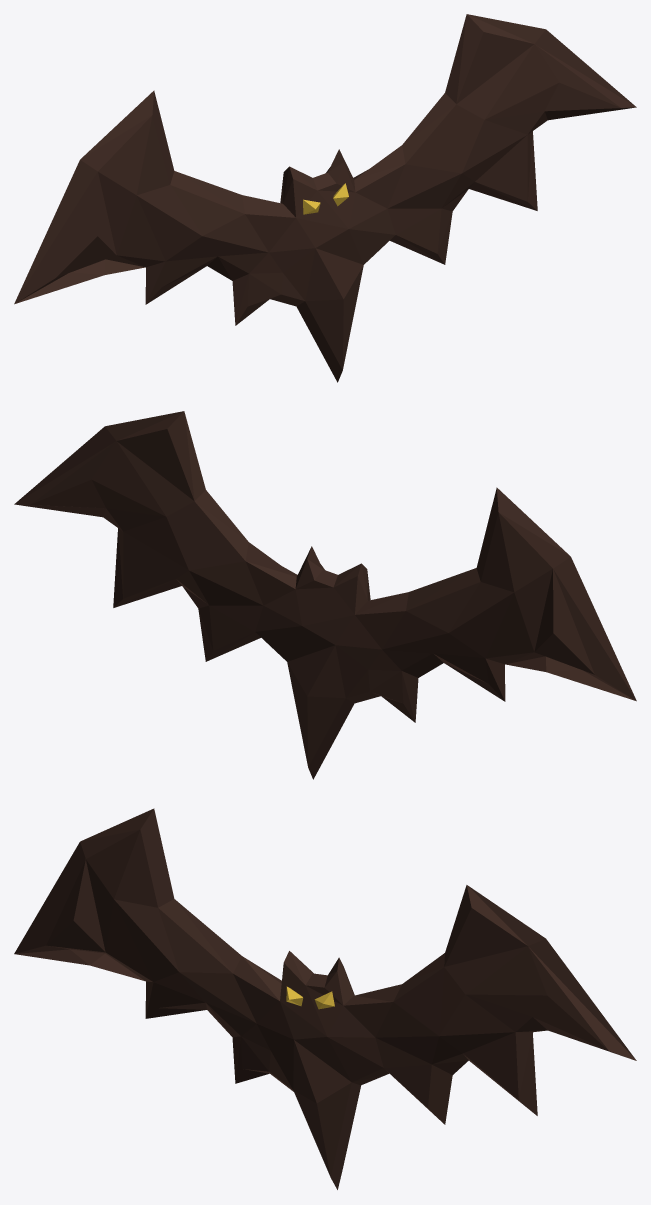
The model's file is bat.fbx.
3 views of the same model, one above another, from view 1: azimuth 30°, elevation 25°; view 2: azimuth 150°, elevation 25°; view 3: azimuth 330°, elevation 25° (orthographic).
Visible parts, largest first — view 1: bat; view 2: bat; view 3: bat.
Part boxes in pixels (left/top/right/bottom): bat: left=14, top=14, right=636, bottom=382; bat: left=14, top=411, right=636, bottom=779; bat: left=14, top=808, right=636, bottom=1189.
Bounding box in the file's own units: 4.5 × 2.33 × 0.3359.
